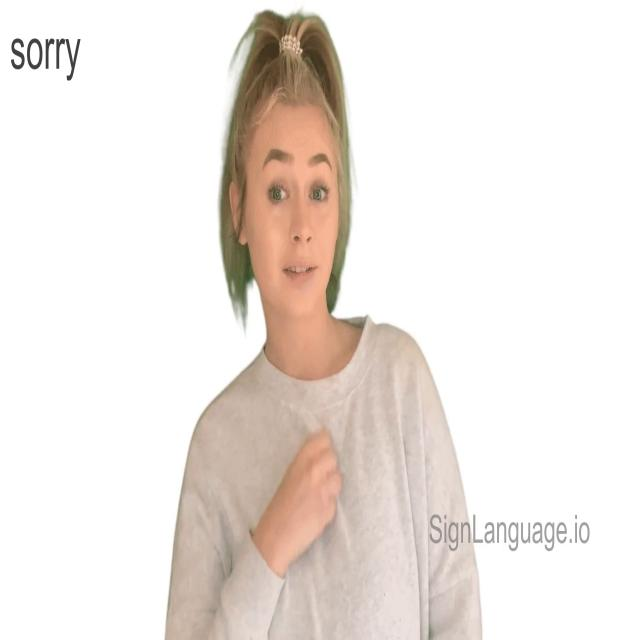sorry: (247, 425, 344, 578)
